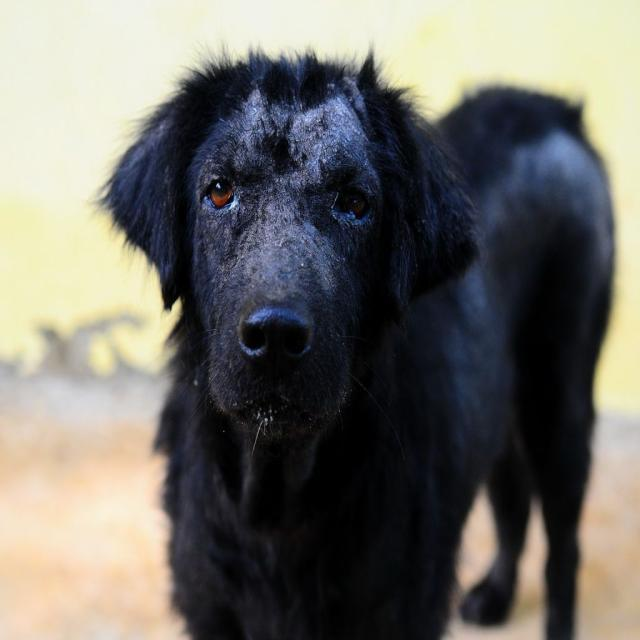mange: (232, 87, 346, 167), (247, 166, 316, 280), (284, 213, 342, 292), (316, 81, 373, 147), (205, 220, 258, 282)
